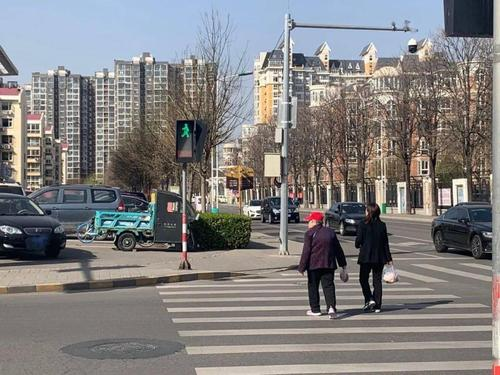camera: (406, 37, 419, 55)
car: (27, 184, 137, 227), (0, 194, 67, 259), (431, 202, 493, 259), (324, 201, 367, 236), (260, 197, 300, 224), (243, 199, 263, 219), (0, 183, 28, 197)
person: (296, 211, 348, 319), (354, 203, 393, 313)
traffic light: (171, 117, 201, 167)
truck: (110, 191, 197, 252)
